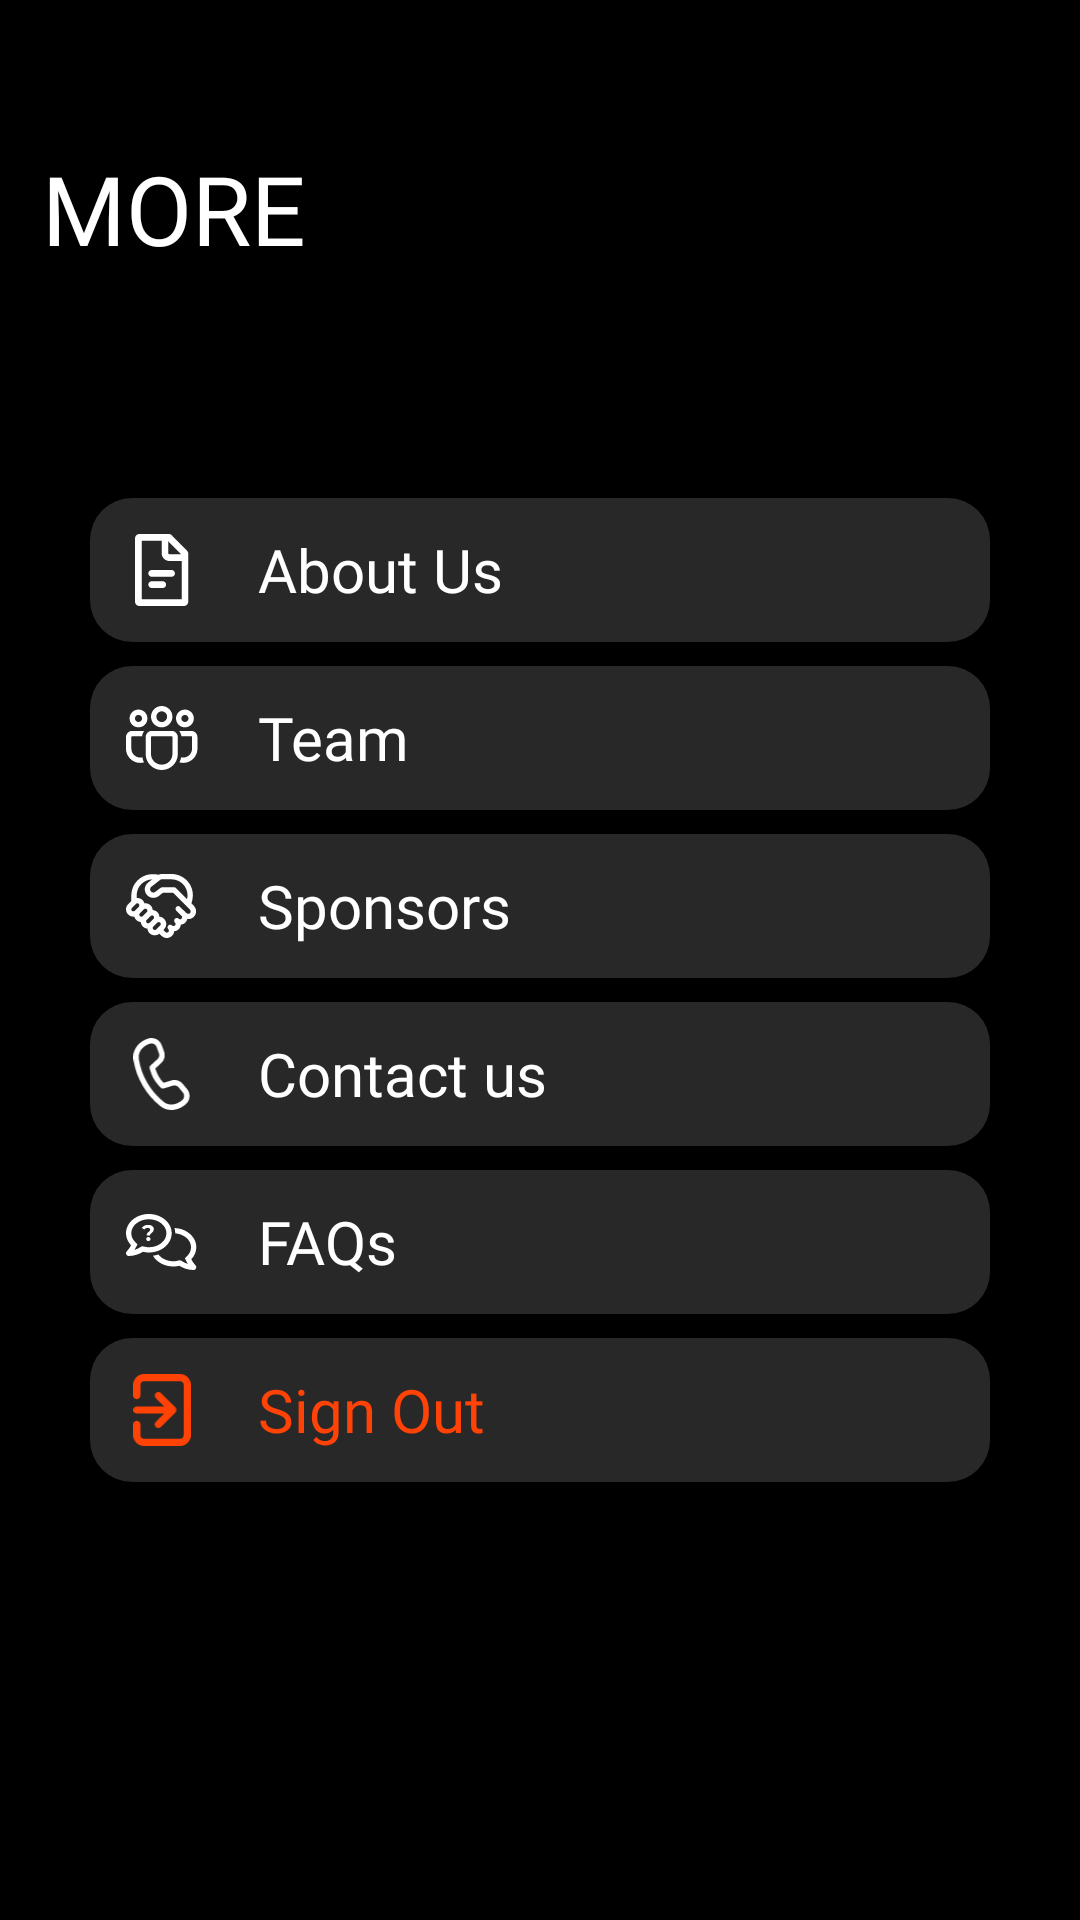

Where icons sit on this 1080x1920 app screen, as (x1, y1, x2, y2):
singoutsvg: (90, 1338, 234, 1482)
sponsersvg: (90, 834, 234, 978)
